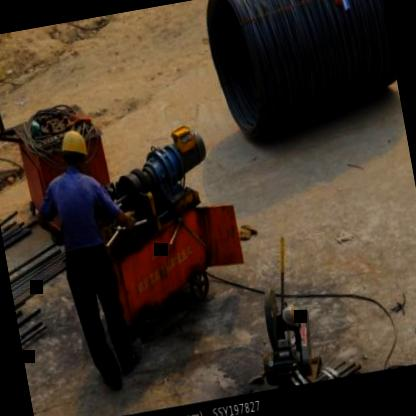helmet: (56, 125, 94, 173)
